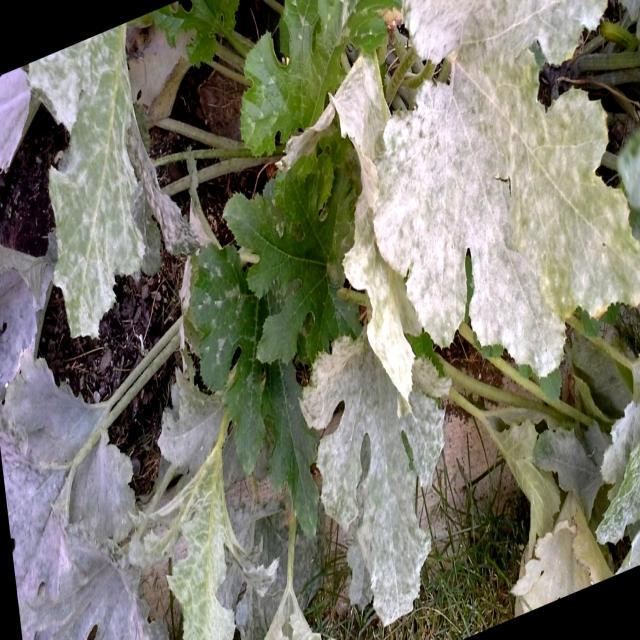Leaf_Mold: (0, 0, 640, 638), (141, 378, 279, 640), (44, 95, 154, 329), (185, 229, 274, 394), (244, 44, 288, 157)
